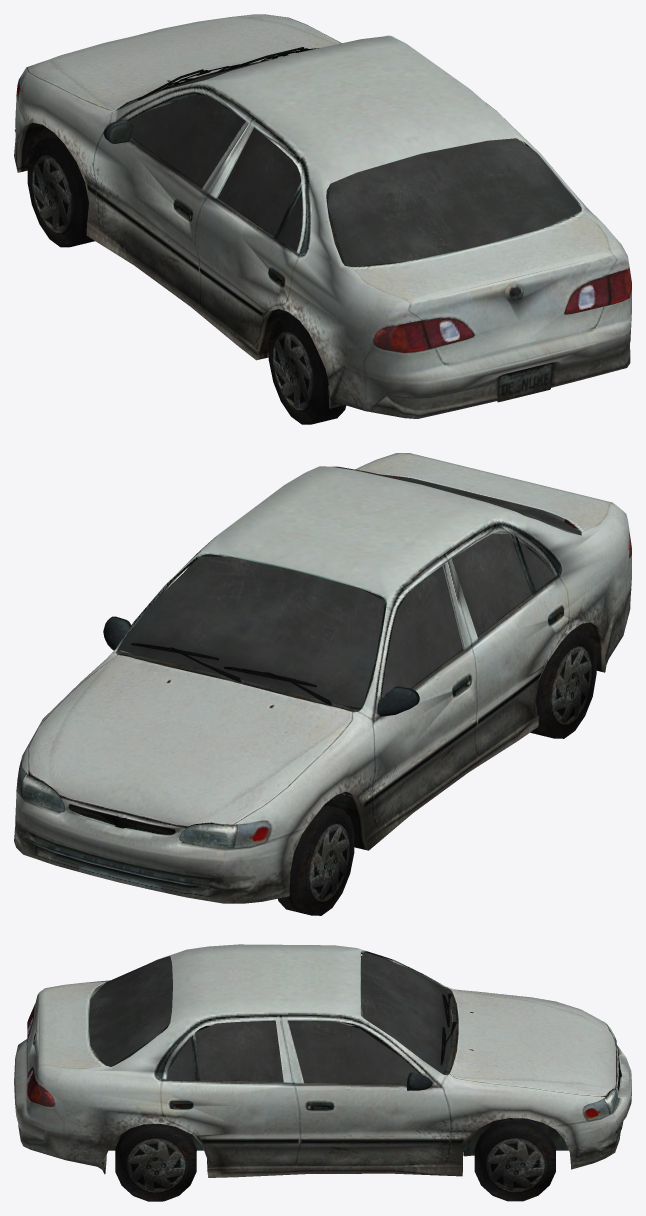
File: car_white.obj
The picture shows the model from 3 angles, top to bottom: view 1: azimuth 30°, elevation 25°; view 2: azimuth 150°, elevation 25°; view 3: azimuth 270°, elevation 25°; orthographic projection. The views are drawn at different scales.
Parts seen in each view (by area): view 1: (null); view 2: (null); view 3: (null).
Boxes of the visible parts, <box> form: (null): <box>14,14,631,424</box>; (null): <box>14,453,631,915</box>; (null): <box>14,944,631,1201</box>.
Size of the model in its own units: 84.52 by 62.86 by 196.
Materials: 2 (2 with a texture image).
